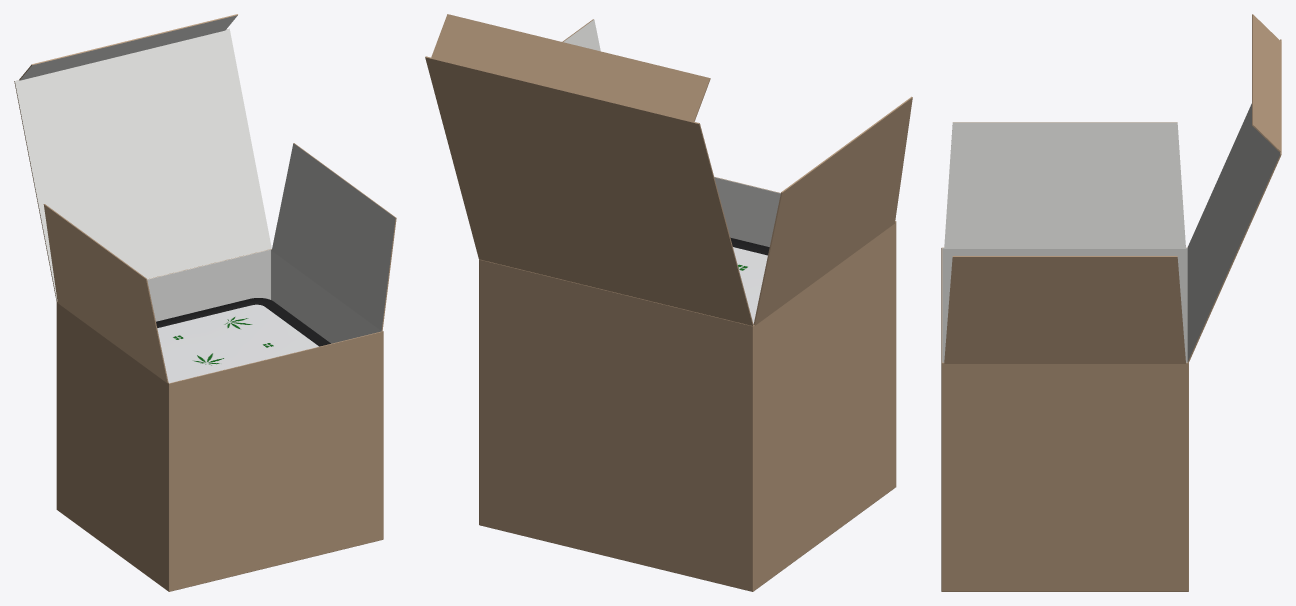
The model's file is combo-dual-flower-vertical-open.glb.
3 views of the same model, side by side, from view 1: azimuth 30°, elevation 25°; view 2: azimuth 150°, elevation 25°; view 3: azimuth 270°, elevation 25° (orthographic). The views are drawn at different scales.
Visible parts, largest first — view 1: vbox_body, vbox_lid, vbox_dustp1, vbox_dustp-1, tub2_foil, vbox_tuck, tub2; view 2: vbox_body, vbox_lid, vbox_dustp-1, vbox_tuck, tub2_foil, vbox_dustp1; view 3: vbox_body, vbox_dustp-1, vbox_dustp1, vbox_lid, vbox_tuck.
Part boxes in pixels (x1,y1,x2,y2): vbox_body: [56, 249, 383, 591]; vbox_lid: [14, 28, 271, 301]; vbox_dustp1: [271, 143, 396, 331]; vbox_dustp-1: [43, 204, 168, 383]; tub2_foil: [157, 304, 318, 383]; vbox_tuck: [19, 14, 237, 80]; tub2: [156, 298, 330, 346]; vbox_body: [479, 177, 896, 591]; vbox_lid: [425, 56, 753, 325]; vbox_dustp-1: [753, 96, 912, 325]; vbox_tuck: [431, 14, 710, 122]; tub2_foil: [733, 247, 767, 323]; vbox_dustp1: [562, 19, 600, 51]; vbox_body: [941, 247, 1188, 591]; vbox_dustp-1: [944, 122, 1185, 248]; vbox_dustp1: [944, 256, 1185, 363]; vbox_lid: [1187, 39, 1281, 362]; vbox_tuck: [1252, 14, 1281, 152].
Bounding box in the file's own units: 0.1131 × 0.1826 × 0.121.
4 materials, 1 textured.
